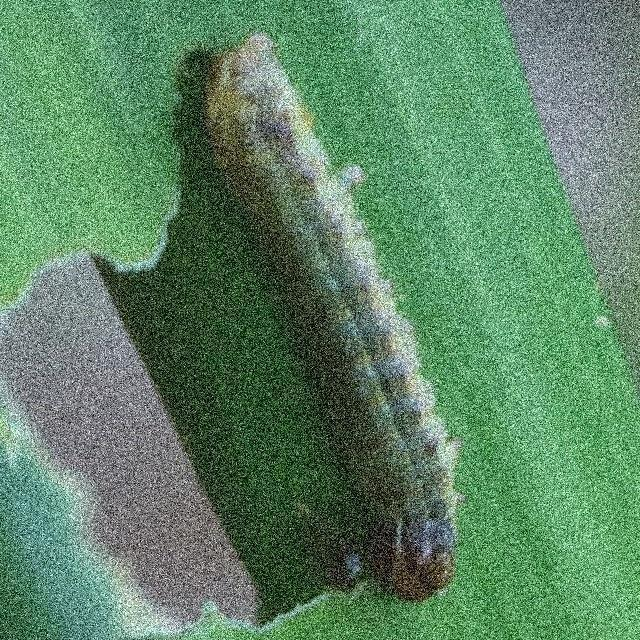gusano_cogollero: (202, 25, 462, 601)
